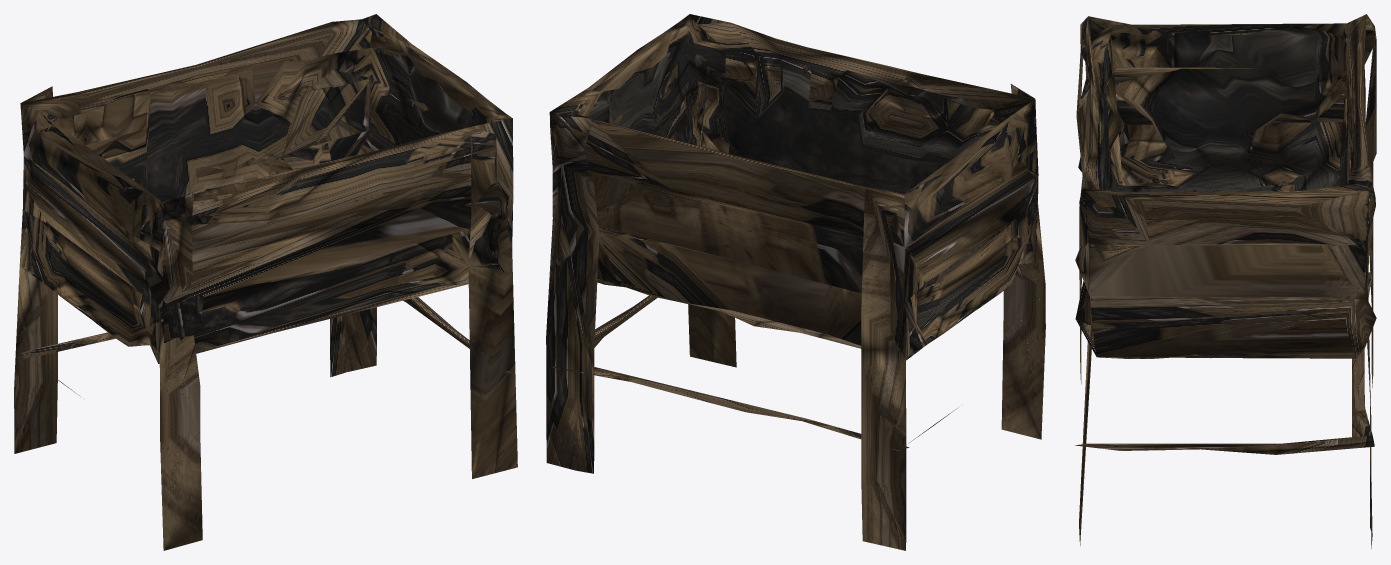
Rendered from planter_box_03.glb.
The picture shows the model from 3 angles, left to right: view 1: azimuth 30°, elevation 25°; view 2: azimuth 150°, elevation 25°; view 3: azimuth 270°, elevation 25°; orthographic projection. The views are drawn at different scales.
Parts seen in each view (by area): view 1: planter_box_03; view 2: planter_box_03; view 3: planter_box_03.
Boxes of the visible parts, bbox=[...] form: planter_box_03: bbox=[14, 14, 517, 550]; planter_box_03: bbox=[546, 14, 1045, 550]; planter_box_03: bbox=[1075, 14, 1376, 548].
Size of the model in its own units: 0.9047 by 0.8512 by 0.6395.
Materials: 1 (1 with a texture image).
